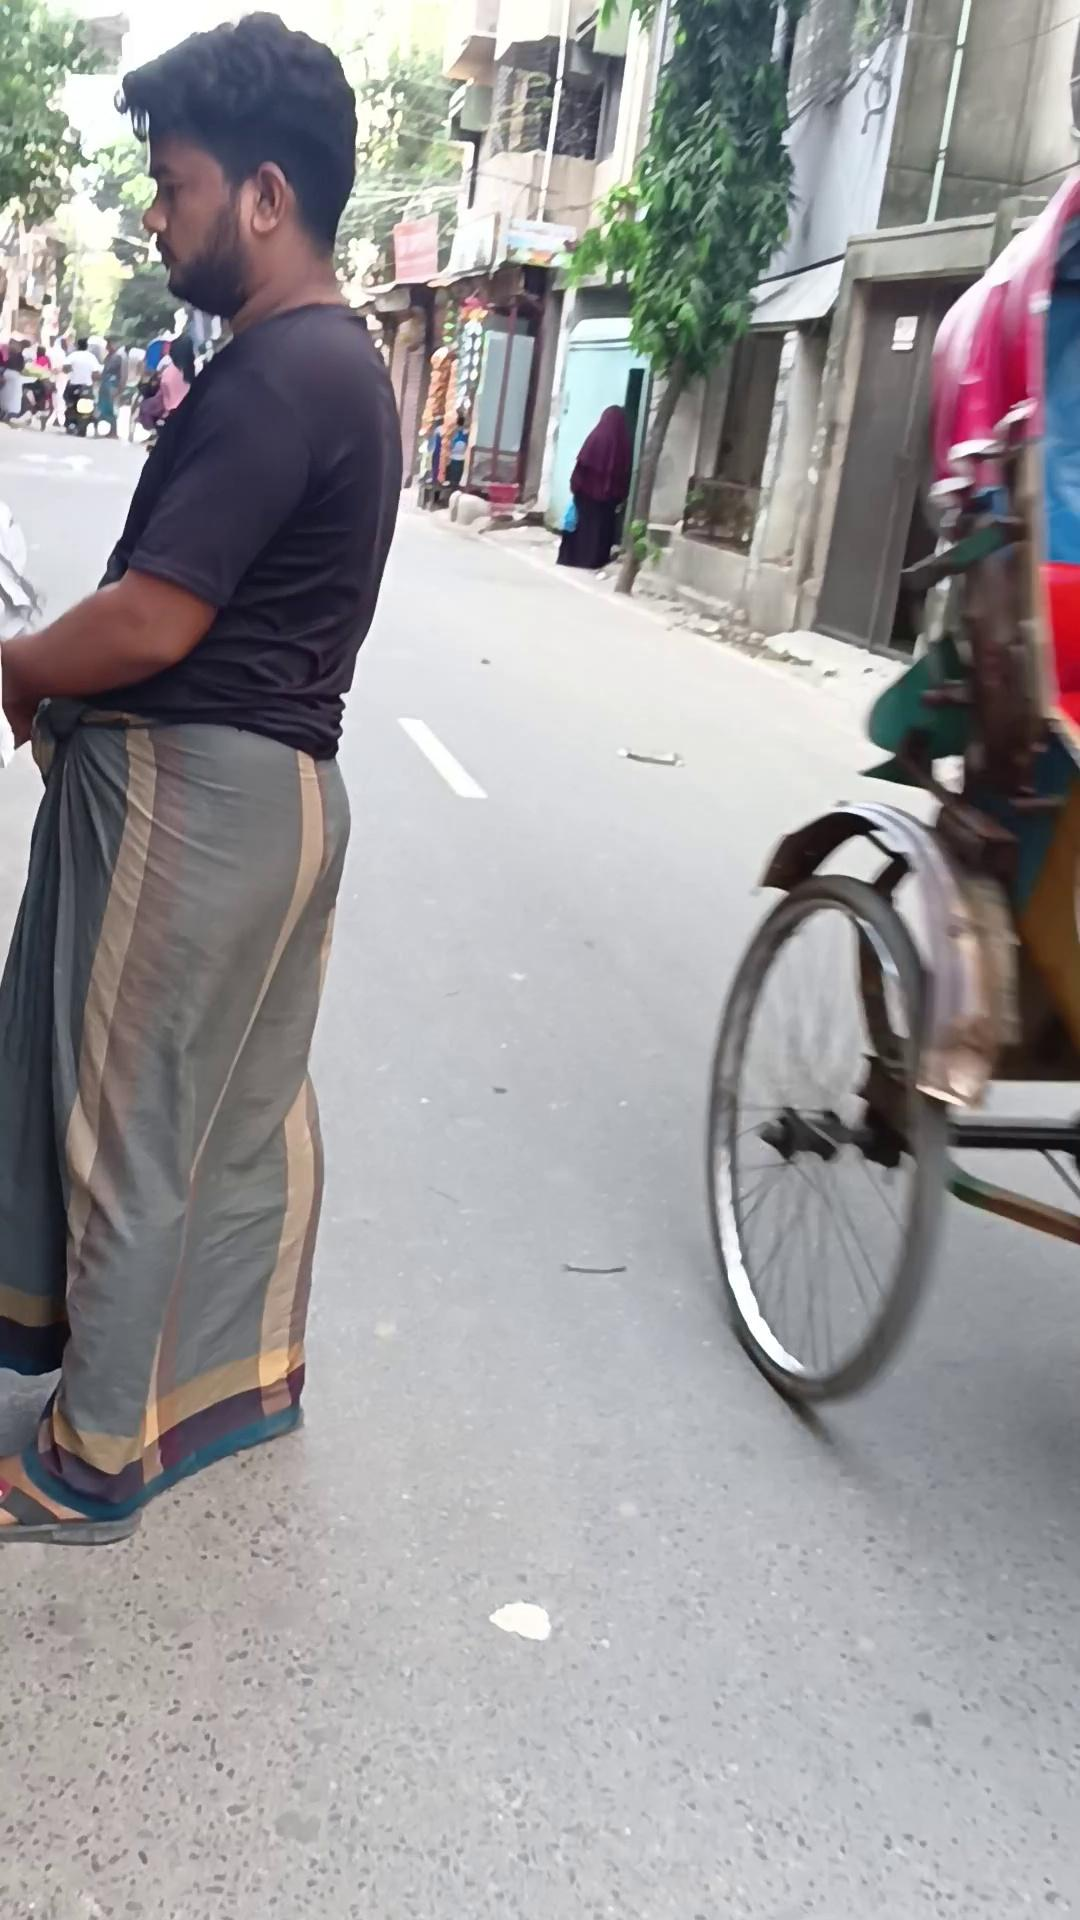Broken-road: (435, 504, 915, 724)
Curb: (0, 11, 405, 1545), (555, 404, 632, 568)
Fence: (702, 170, 1079, 1404)
Light-pole: (578, 1, 807, 593)
Obstacle: (618, 1, 1077, 659)
